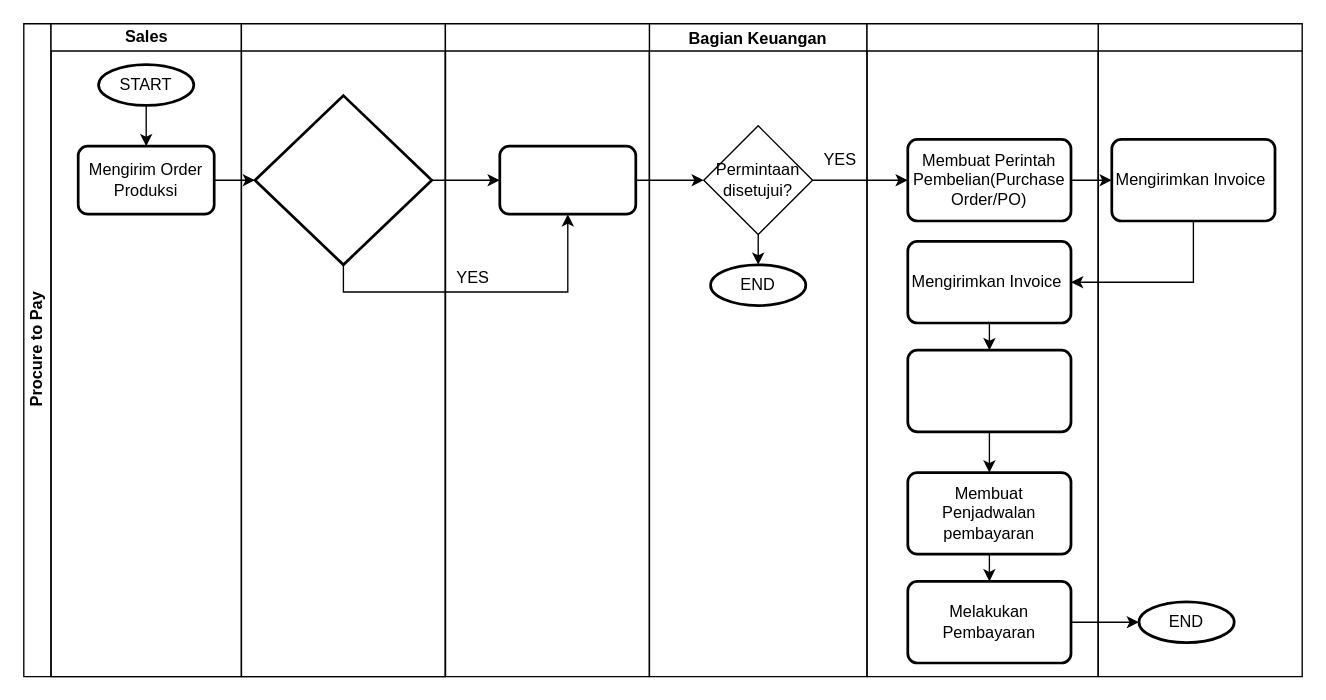
Image size: 1326x700. Some labels were removed from this diagram. Each missing label, with the box of its shape:
Bagian Pembelian: (866, 22, 1098, 677)
Bagian Pemohon: (444, 22, 649, 677)
Bagian Produksi: (240, 22, 445, 677)
Memeriksa. Apakah ada persediaan udang di gudang yang sesuai pesanan?: (253, 94, 432, 265)
Meminta Persetujuan sesuai Business Rule: (906, 348, 1072, 432)
Pemasok: (1097, 22, 1302, 677)
Proses Permintaan Pembelian: (498, 144, 636, 215)
